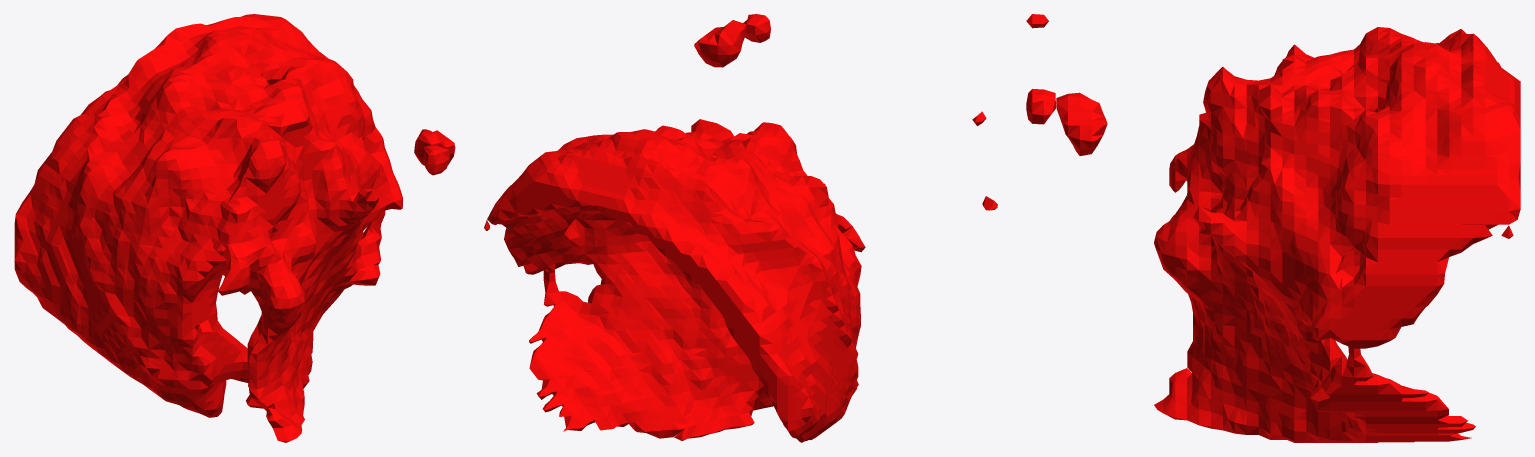
The model's file is B939XXXX-1_valve_16.obj.
3 views of the same model, side by side, from view 1: azimuth 30°, elevation 25°; view 2: azimuth 150°, elevation 25°; view 3: azimuth 270°, elevation 25° (orthographic). The views are drawn at different scales.
Parts seen in each view (by area): view 1: 16_valve; view 2: 16_valve; view 3: 16_valve.
Part boxes in pixels (x1=…): 16_valve: x1=14, y1=14, x2=455, y2=442; 16_valve: x1=484, y1=14, x2=997, y2=442; 16_valve: x1=1026, y1=14, x2=1520, y2=442.
Size of the model in its own units: 75.98 by 72.31 by 82.97.
